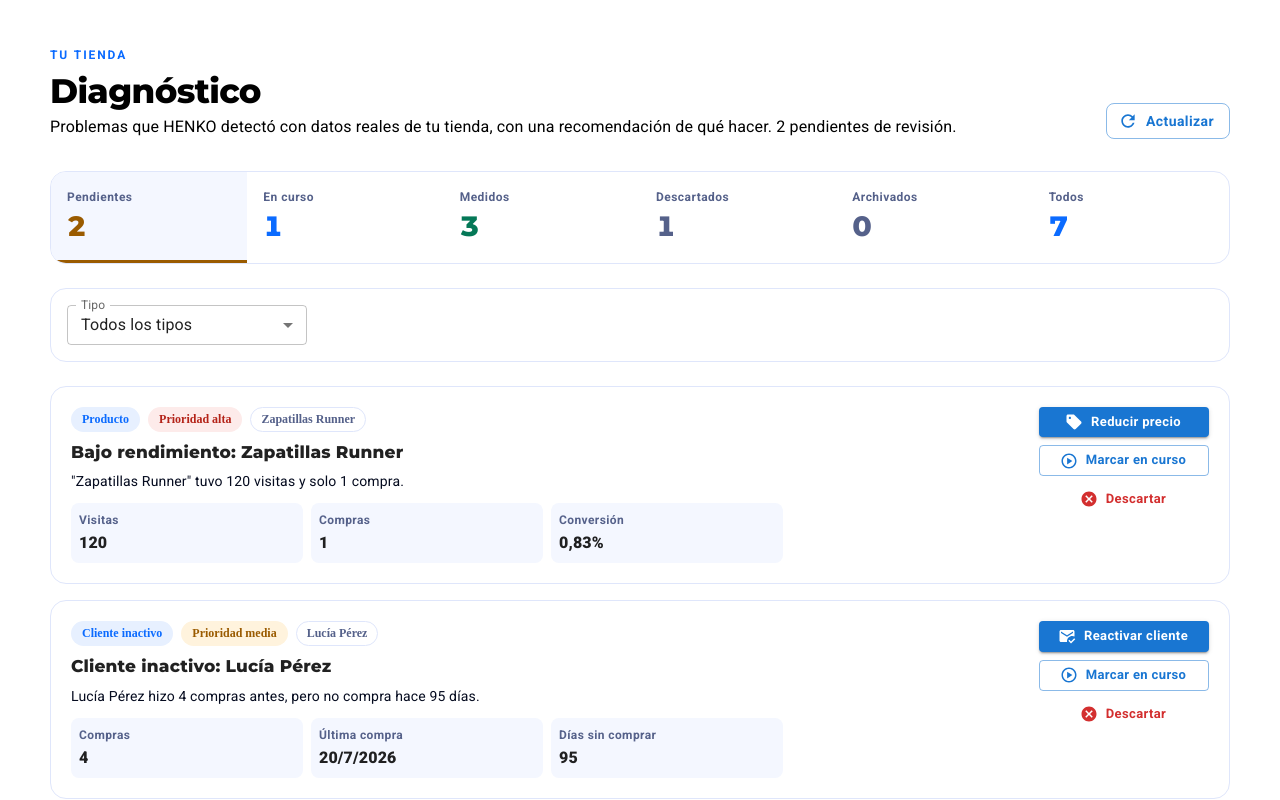
Diagnóstico · acciones que cambian cosas, siempre con confirmación › reactivar arma el mensaje, deja editarlo y recién al confirmar lo manda
The image size is (1280, 800).
Step 1. Click the button "Reactivar cliente" → (1124, 636), box [1039,621,1209,652]
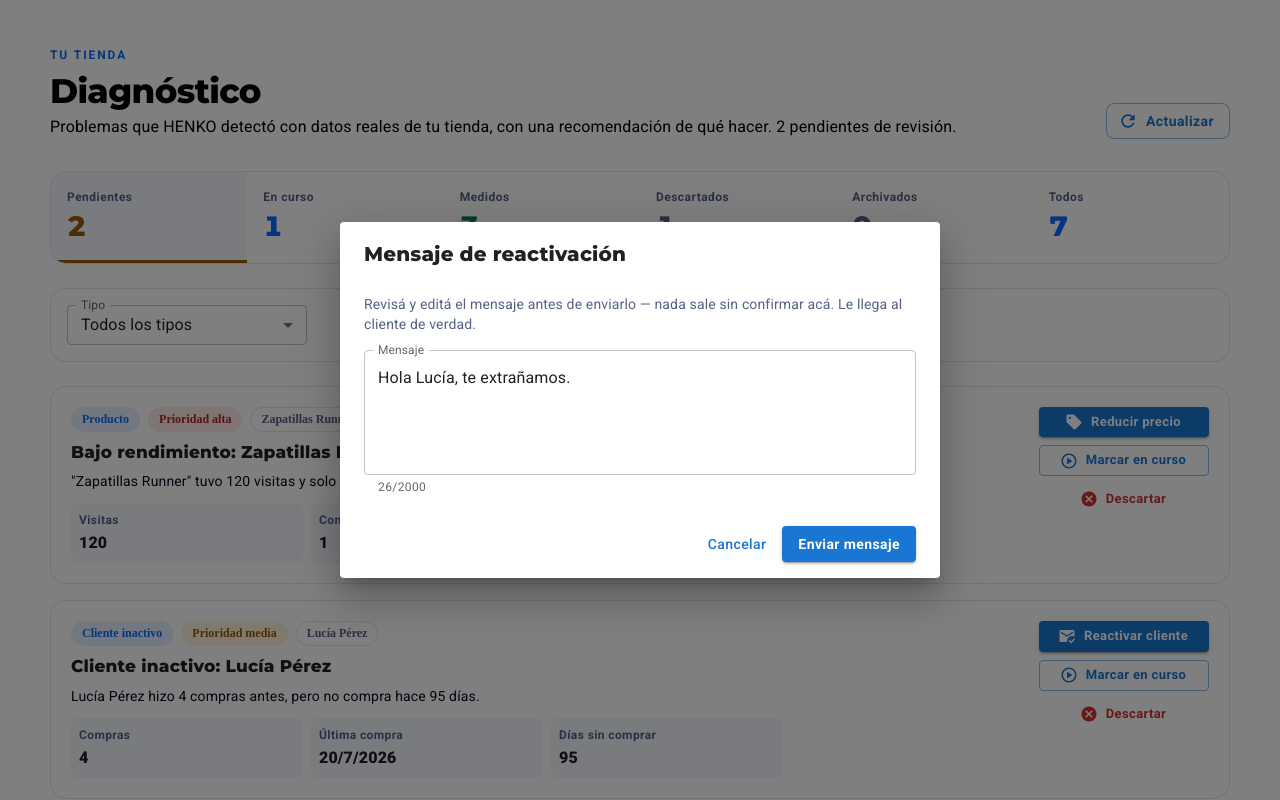
Expected: the text box labelled "Mensaje" holds "Hola Lucía, te extrañamos."
Step 2. Replace the text in the text box labelled "Mensaje" with "Hola Lucía, volvé con 10% off." → (640, 412), box [378,366,902,458]
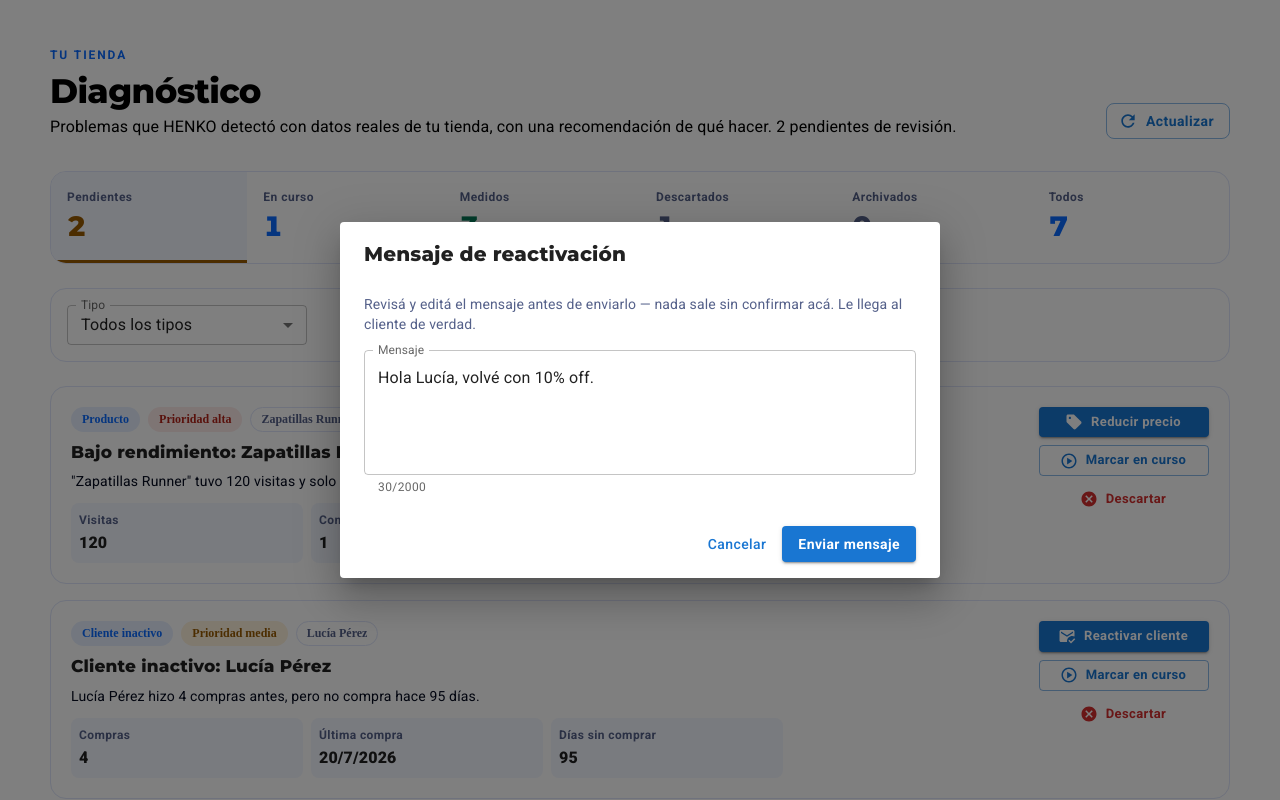
Step 3. Click the button "Enviar mensaje" → (849, 544), box [782,526,916,562]
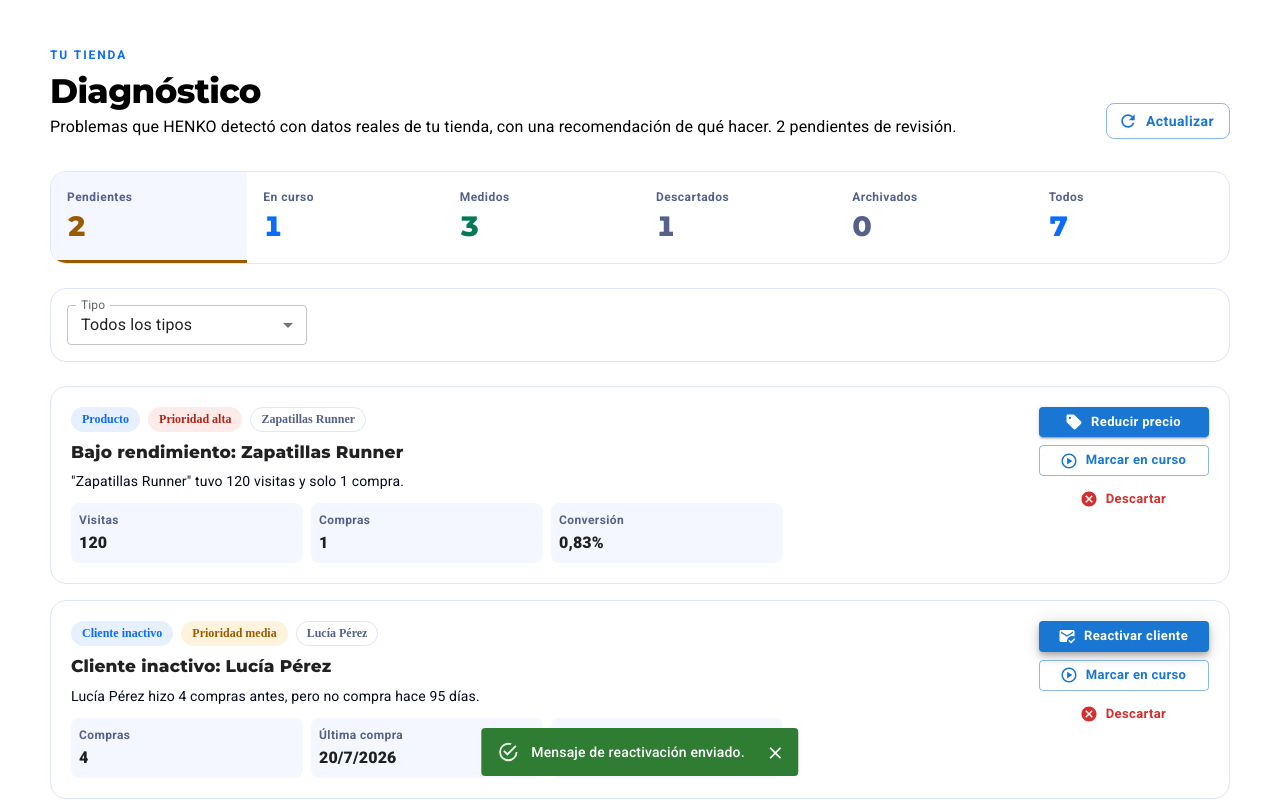
Expected: the text "Mensaje de reactivación enviado." is shown, [531,744,745,760]
